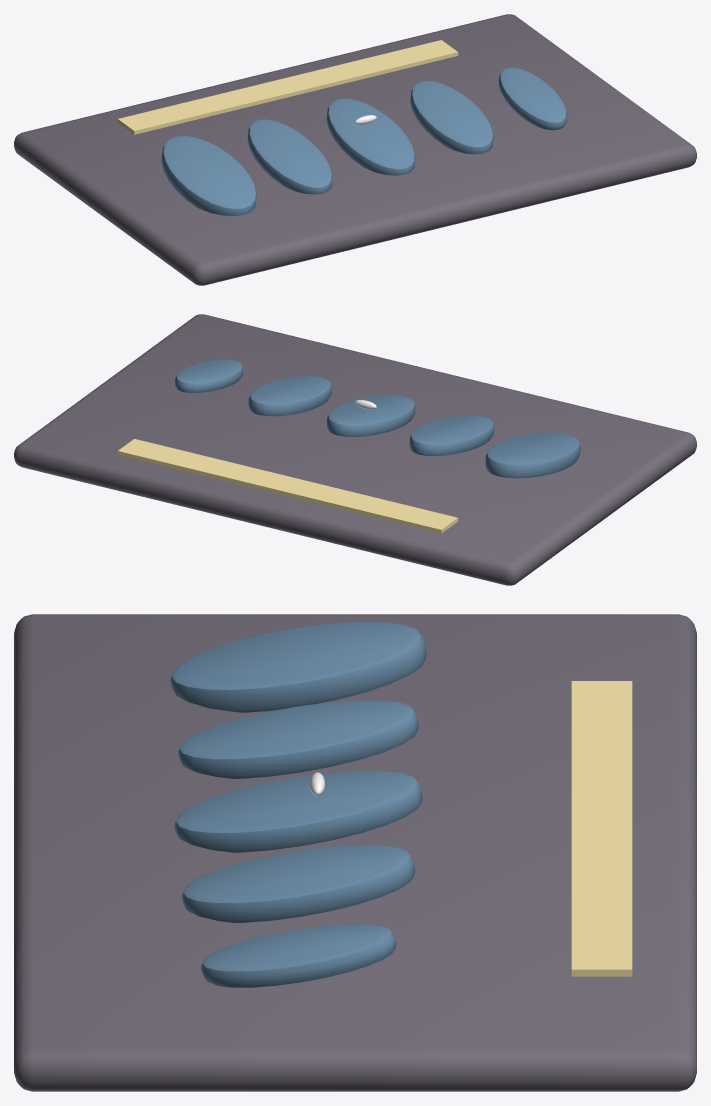
The model's file is set-moonlight-cateye.glb.
3 renders of one model, top to bottom at view 1: azimuth 30°, elevation 25°; view 2: azimuth 150°, elevation 25°; view 3: azimuth 270°, elevation 25°, orthographic. The views are drawn at different scales.
Visible parts, largest first — view 1: set_VelvetCard, set_GoldBrandingBar, set_NailTip_0, set_NailTip_2, set_NailTip_1, set_NailTip_3, set_NailTip_4; view 2: set_VelvetCard, set_GoldBrandingBar, set_NailTip_0, set_NailTip_2, set_NailTip_1, set_NailTip_3, set_NailTip_4; view 3: set_VelvetCard, set_GoldBrandingBar, set_NailTip_0, set_NailTip_2, set_NailTip_1, set_NailTip_3, set_NailTip_4.
Part boxes in pixels (<box>): set_VelvetCard: <box>14,14,696,285</box>; set_GoldBrandingBar: <box>117,40,458,134</box>; set_NailTip_0: <box>161,135,256,216</box>; set_NailTip_2: <box>326,98,415,175</box>; set_NailTip_1: <box>247,119,332,194</box>; set_NailTip_3: <box>410,81,493,154</box>; set_NailTip_4: <box>498,67,567,130</box>; set_VelvetCard: <box>14,314,696,585</box>; set_GoldBrandingBar: <box>117,439,458,533</box>; set_NailTip_0: <box>485,432,580,478</box>; set_NailTip_2: <box>326,394,415,437</box>; set_NailTip_1: <box>409,415,494,456</box>; set_NailTip_3: <box>248,376,331,416</box>; set_NailTip_4: <box>175,359,243,393</box>; set_VelvetCard: <box>14,614,696,1091</box>; set_GoldBrandingBar: <box>571,681,632,976</box>; set_NailTip_0: <box>170,621,426,712</box>; set_NailTip_2: <box>174,770,422,852</box>; set_NailTip_1: <box>178,700,418,778</box>; set_NailTip_3: <box>181,845,415,922</box>; set_NailTip_4: <box>200,924,396,987</box>.
Size of the model in its own units: 0.28 by 0.028 by 0.18.
